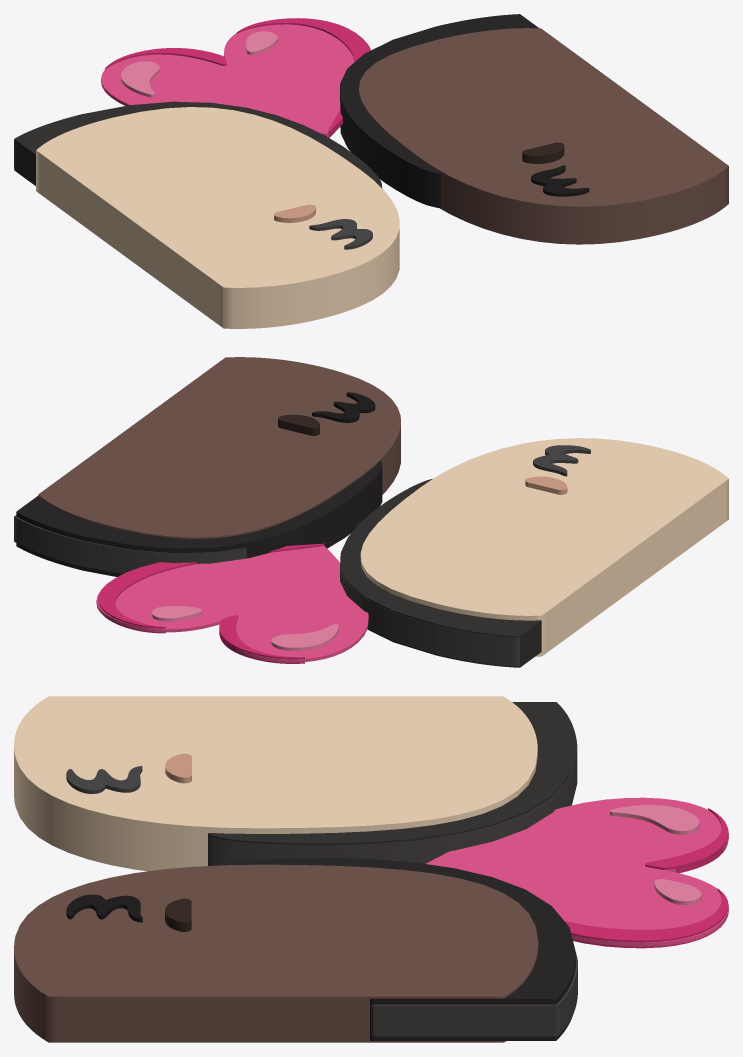
The model's file is emoji_u1f468_1f3fb_200d_2764_200d_1f48b_200d_1f468_1f3ff.glb.
The picture shows the model from 3 angles, top to bottom: view 1: azimuth 30°, elevation 25°; view 2: azimuth 150°, elevation 25°; view 3: azimuth 270°, elevation 25°; orthographic projection. The views are drawn at different scales.
Visible parts, largest first — view 1: emoji_u1f468_1f3fb_200d_2764_200d_1f48b_200d_1f468_1f3ff; view 2: emoji_u1f468_1f3fb_200d_2764_200d_1f48b_200d_1f468_1f3ff; view 3: emoji_u1f468_1f3fb_200d_2764_200d_1f48b_200d_1f468_1f3ff.
Part boxes in pixels (box(x1,y1,x2,y2)): emoji_u1f468_1f3fb_200d_2764_200d_1f48b_200d_1f468_1f3ff: box(14, 14, 728, 328); emoji_u1f468_1f3fb_200d_2764_200d_1f48b_200d_1f468_1f3ff: box(14, 357, 728, 667); emoji_u1f468_1f3fb_200d_2764_200d_1f48b_200d_1f468_1f3ff: box(14, 696, 728, 1042).
Size of the model in its own units: 0.0336 by 0.0034 by 0.0339.
